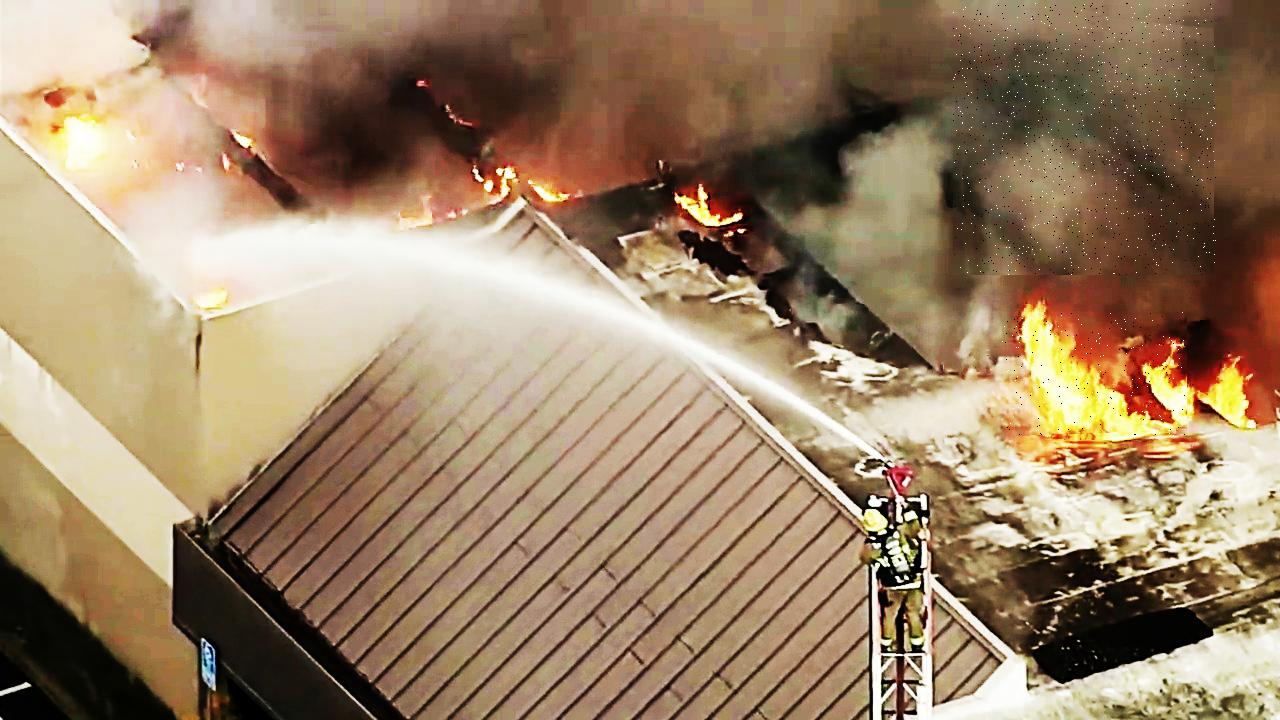fire: (1002, 312, 1187, 436)
smoke: (954, 3, 1217, 275)
